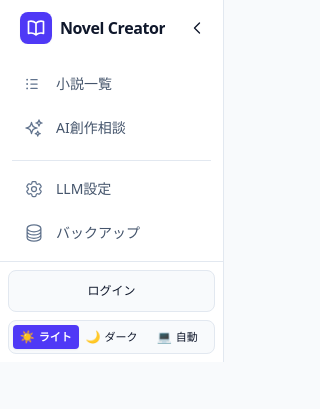
Test: Nav component › メニューの縮小と再展開が切り替わり、localStorage に状態が永続化されること
Click the button named "メニューを縮小" at (197, 28), box [183, 14, 211, 42]
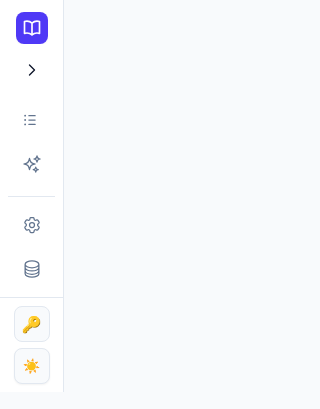
Now the text "Novel Creator" is gone
Now the text "小説一覧" is gone
Click the button named "メニューを展開" at (32, 70), box [18, 56, 46, 84]
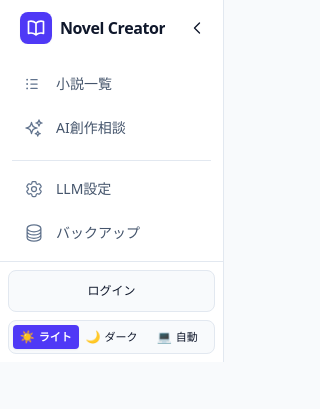
Now the text "小説一覧" is shown, box [56, 74, 112, 94]
